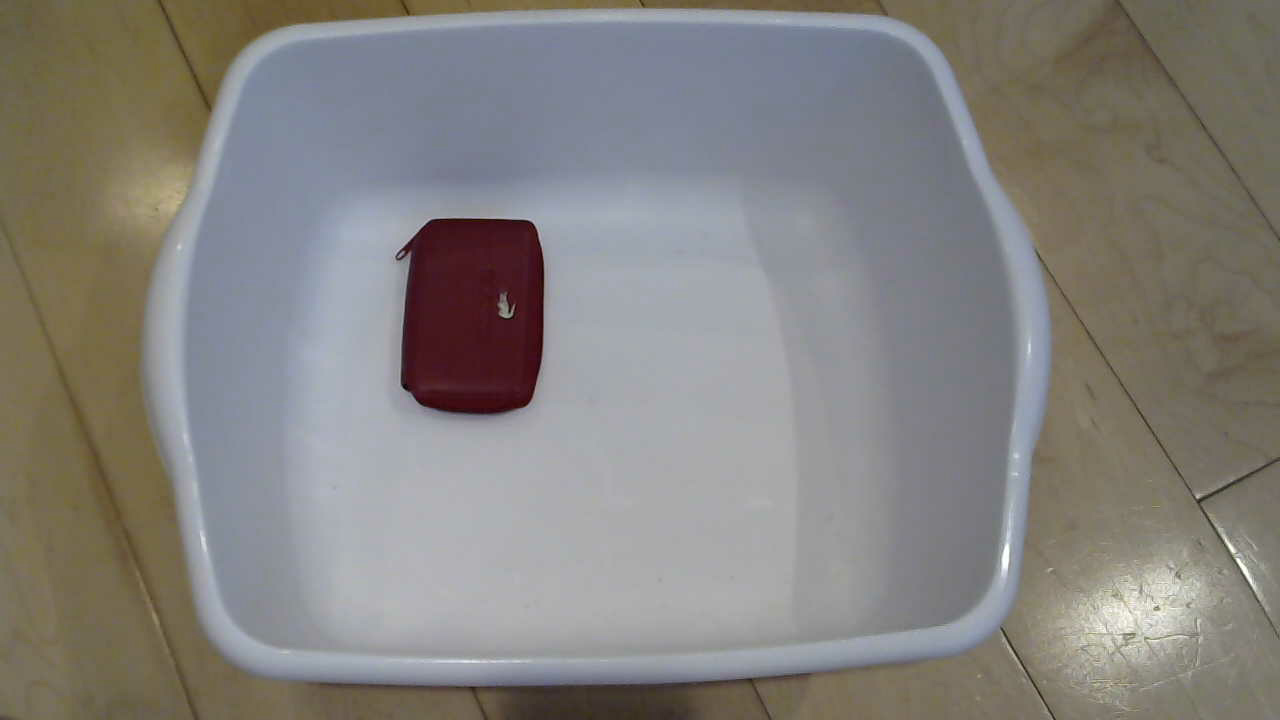wallet: (385, 206, 573, 437)
